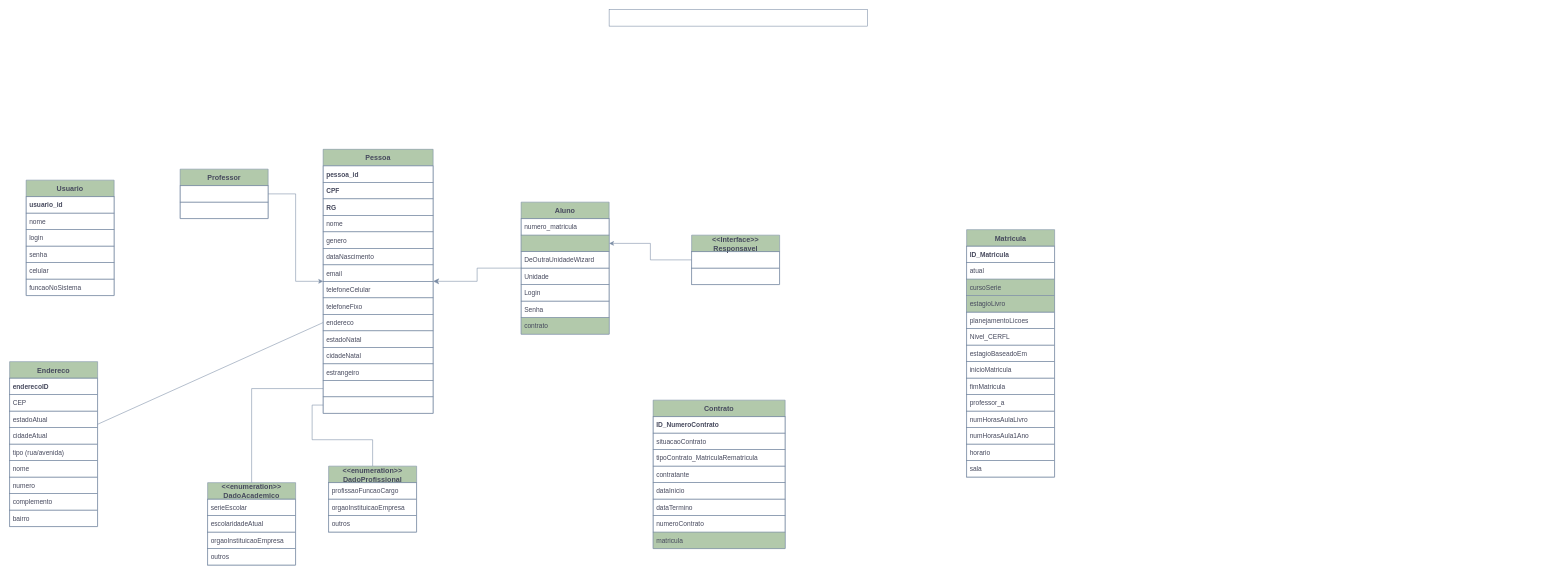
Image size: 1557x575. Some labels were removed from this diagram. Here are the shapes that lost their labels. From the top down, the centre of each, then its label:
the point at 738,17: ID_ClienteAluno = numero sequencial do cadastro + numero sequencial do contrato
the point at 224,193: professor_id
the point at 224,210: especialidade
the point at 565,243: responsavel
the point at 735,259: responsavel_id
the point at 735,276: parentesco_relacao
the point at 378,388: dadoAcademico
the point at 378,404: dadoProfissional
